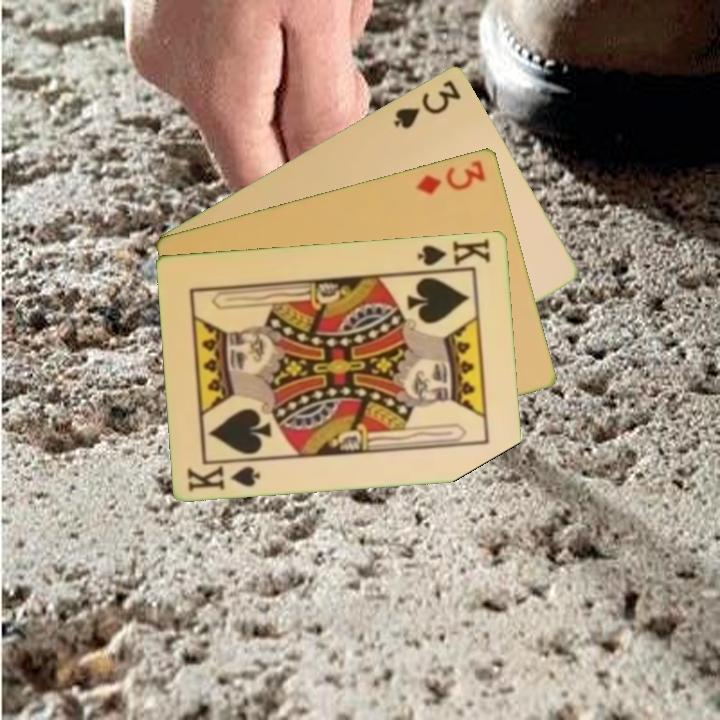3d: (413, 156, 489, 197)
3s: (390, 75, 464, 131)
Ks: (414, 234, 494, 269), (184, 461, 263, 495)
